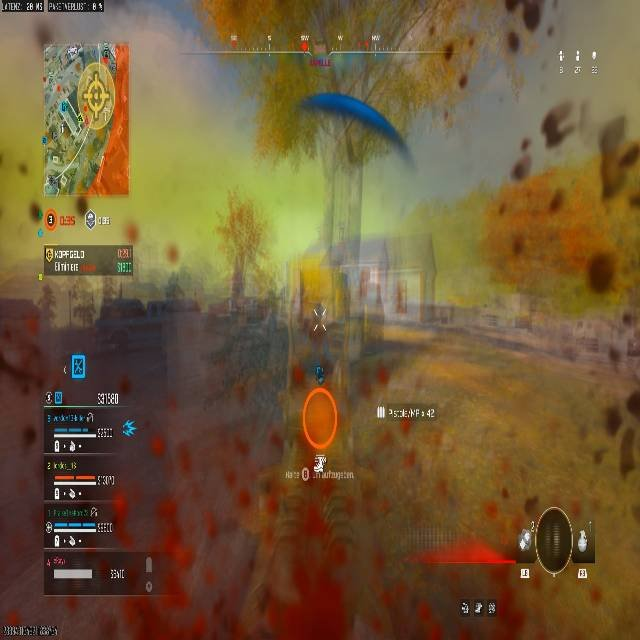player: (312, 302, 327, 334)
